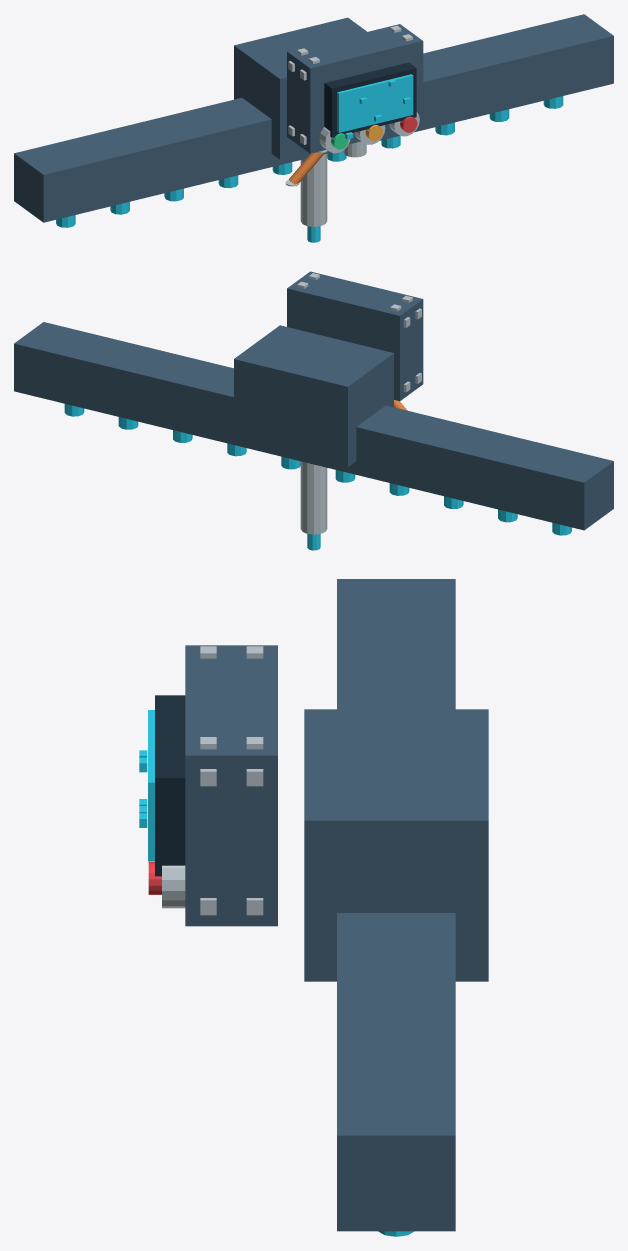
The model's file is 24_L78_CapFilmThicknessInterferometer.fbx.
The picture shows the model from 3 angles, top to bottom: view 1: azimuth 30°, elevation 25°; view 2: azimuth 150°, elevation 25°; view 3: azimuth 270°, elevation 25°; orthographic projection. The views are drawn at different scales.
Parts seen in each view (by area): view 1: CapFilmThicknessInterferometer, CapFilmThicknessInterferometer_Part_0037, CapFilmThicknessInterferometer_Part_0038; view 2: CapFilmThicknessInterferometer, CapFilmThicknessInterferometer_Part_0037, CapFilmThicknessInterferometer_Part_0038; view 3: CapFilmThicknessInterferometer, CapFilmThicknessInterferometer_Part_0037.
Boxes of the visible parts, x1,y1,x2,y2 form: CapFilmThicknessInterferometer: (14, 14, 613, 227); CapFilmThicknessInterferometer_Part_0037: (234, 17, 366, 159); CapFilmThicknessInterferometer_Part_0038: (300, 153, 327, 226); CapFilmThicknessInterferometer: (14, 271, 613, 535); CapFilmThicknessInterferometer_Part_0037: (234, 325, 393, 467); CapFilmThicknessInterferometer_Part_0038: (300, 461, 327, 534); CapFilmThicknessInterferometer: (139, 579, 455, 1236); CapFilmThicknessInterferometer_Part_0037: (304, 709, 488, 981).
Size of the model in its own units: 200 by 75.95 by 53.02.
